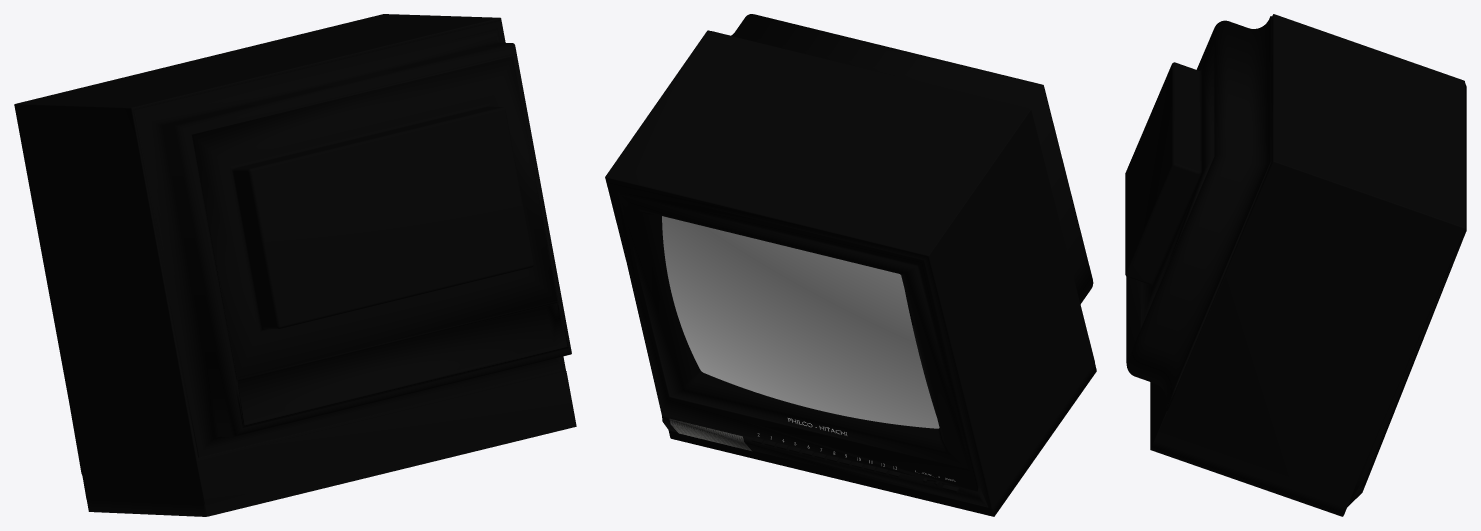
3 renders of one model, left to right at view 1: azimuth 30°, elevation 25°; view 2: azimuth 150°, elevation 25°; view 3: azimuth 270°, elevation 25°, orthographic. The views are drawn at different scales.
Visible parts, largest first — view 1: TV; view 2: TV, screen; view 3: TV.
Part boxes in pixels (x1,y1,x2,y2): TV: [14, 14, 576, 516]; TV: [605, 14, 1096, 516]; screen: [662, 216, 939, 428]; TV: [1125, 14, 1466, 516].
Bounding box in the file's own units: 0.5756 × 0.6465 × 0.5619.
5 materials, 1 textured.
